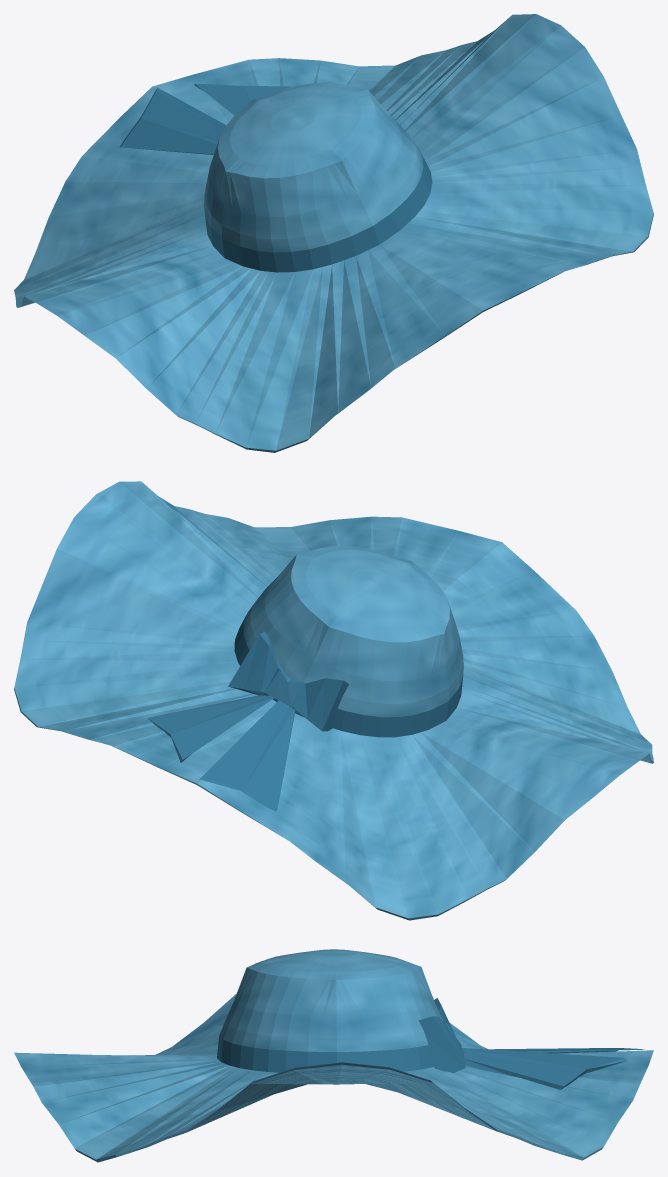
Rendered from SUNHAT.fbx.
The picture shows the model from 3 angles, top to bottom: view 1: azimuth 30°, elevation 25°; view 2: azimuth 150°, elevation 25°; view 3: azimuth 270°, elevation 25°; orthographic projection.
Visible parts, largest first — view 1: SUNHAT; view 2: SUNHAT; view 3: SUNHAT.
Part boxes in pixels (<box>): SUNHAT: <box>14,14,653,452</box>; SUNHAT: <box>14,481,653,920</box>; SUNHAT: <box>14,949,653,1162</box>.
Size of the model in its own units: 74.77 by 33.04 by 80.
